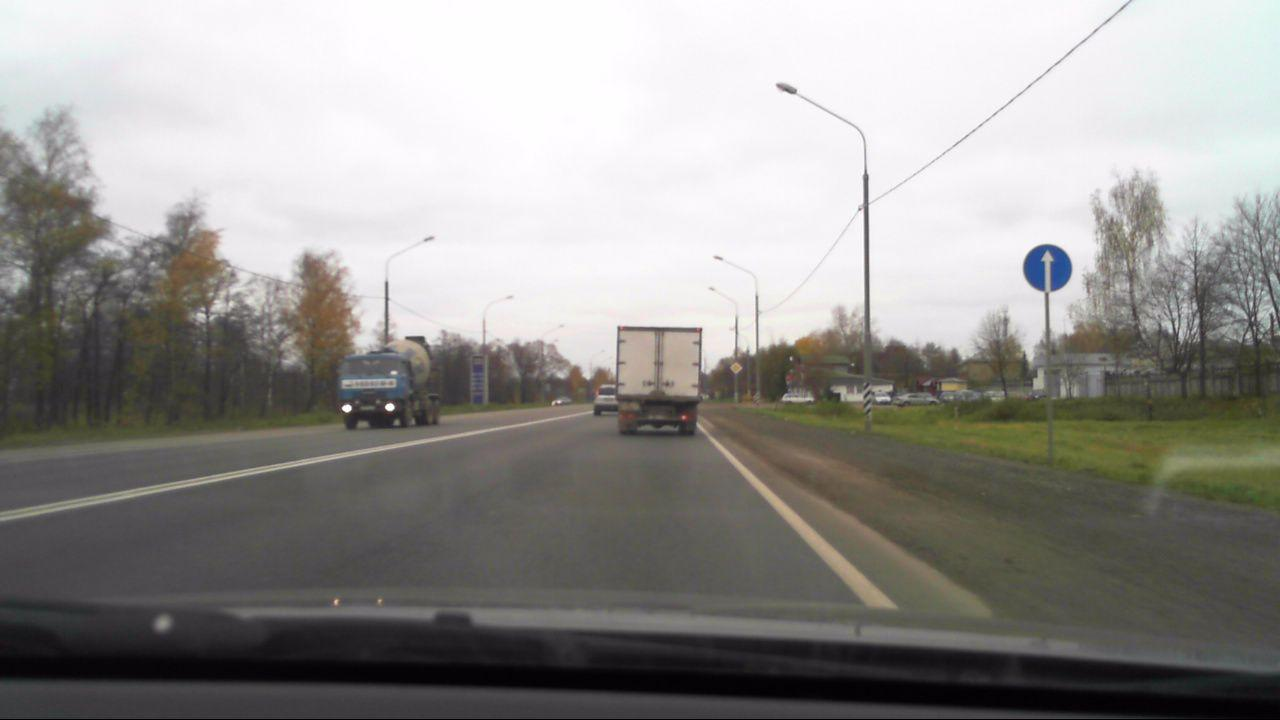4_1_1: (1020, 243, 1072, 296)
